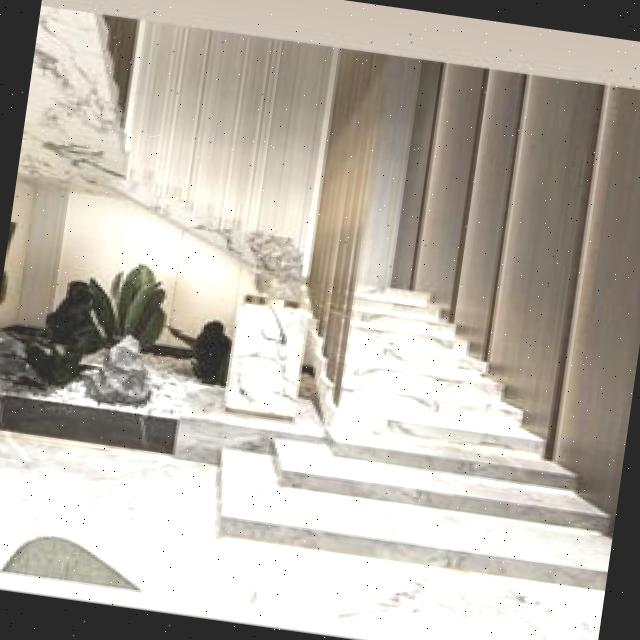stairs: (204, 263, 640, 591)
